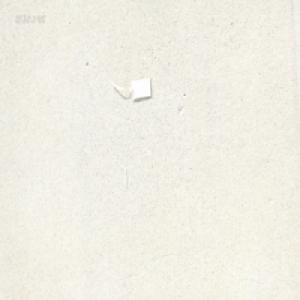LuggageTag: (108, 74, 152, 101)
